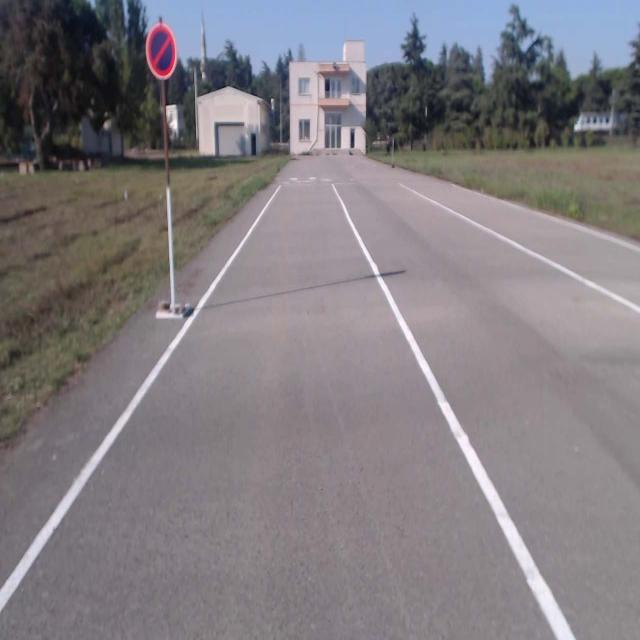parkyasak: (145, 24, 177, 80)
